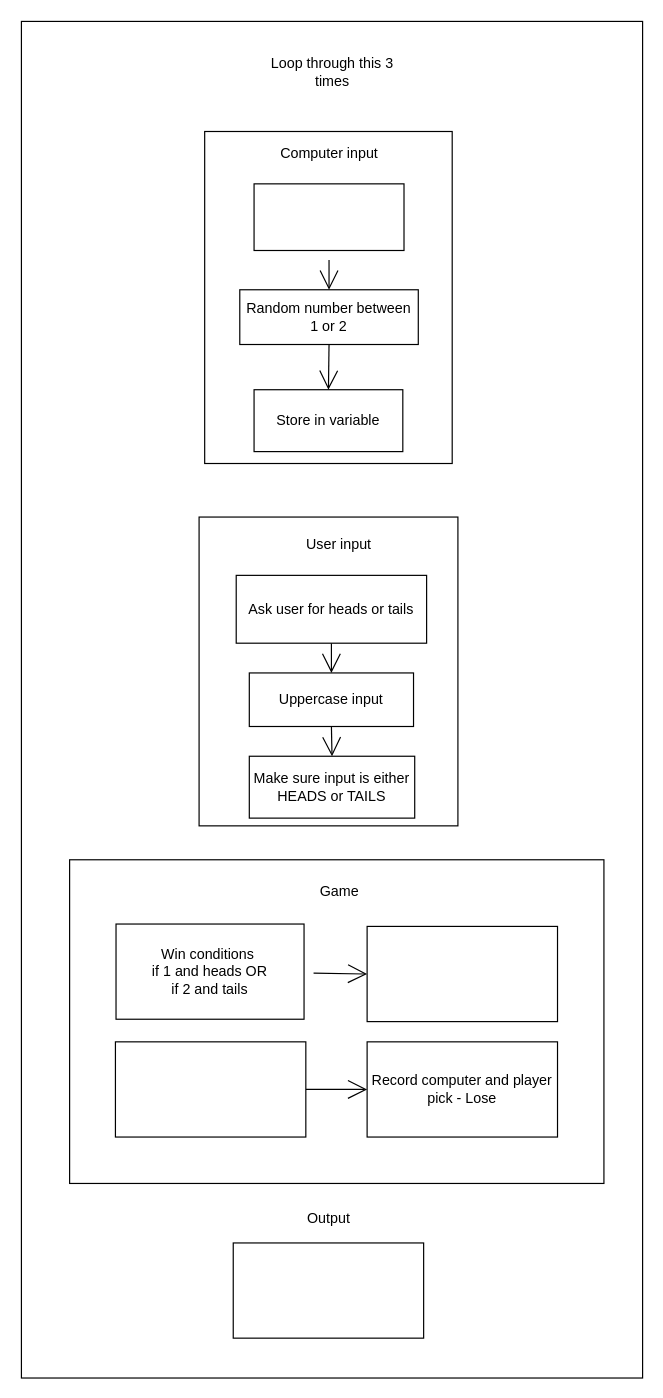
This 663x1398 diagram has some shape labels left out. Here are the shapes that lost their labels. From the top down, the centre of each, then its label:
At pixel 328 216: "ComputerPlay".
At pixel 462 973: "Record computer and player pick - Win".
At pixel 210 1089: "Else".
At pixel 328 1290: "find some way to keep track of results".
